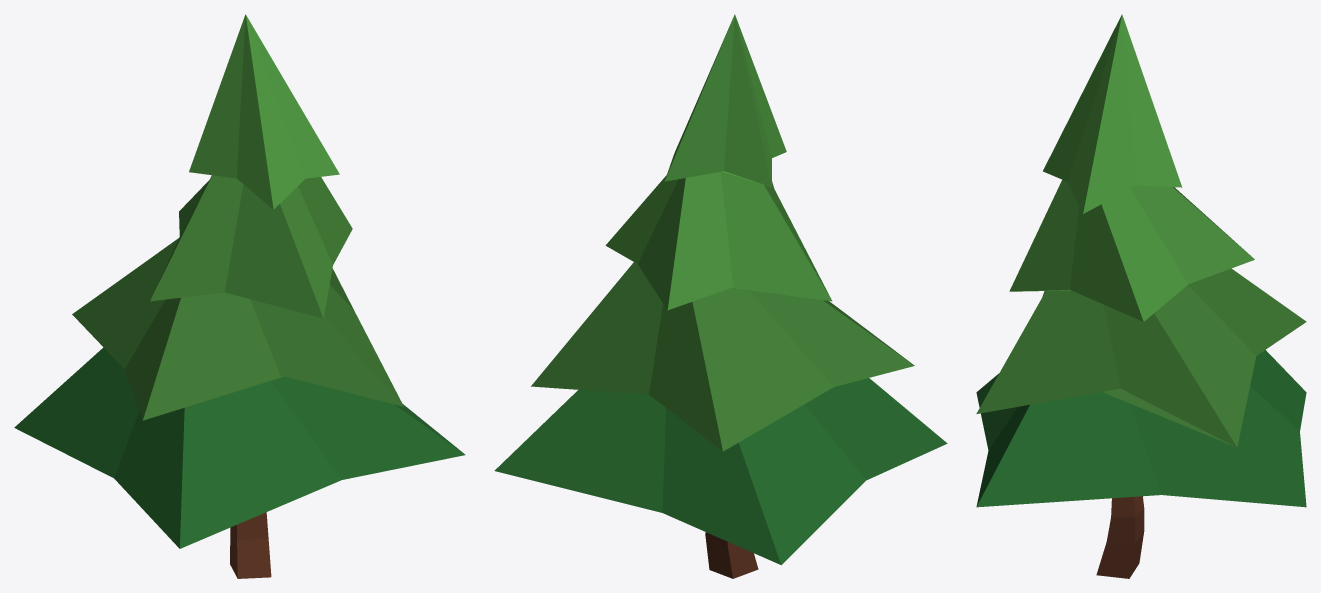
File: pine_tree.fbx
3 renders of one model, left to right at view 1: azimuth 30°, elevation 25°; view 2: azimuth 150°, elevation 25°; view 3: azimuth 270°, elevation 25°, orthographic.
Parts seen in each view (by area): view 1: pine_tree_leaves, pine_tree_wood; view 2: pine_tree_leaves, pine_tree_wood; view 3: pine_tree_leaves, pine_tree_wood.
Part boxes in pixels (<box>): pine_tree_leaves: <box>14,14,465,548</box>; pine_tree_wood: <box>230,512,271,578</box>; pine_tree_leaves: <box>494,14,947,565</box>; pine_tree_wood: <box>705,532,758,578</box>; pine_tree_leaves: <box>976,14,1306,507</box>; pine_tree_wood: <box>1096,496,1144,578</box>.
Bounding box in the file's own units: 1.73 × 3.19 × 1.72.
